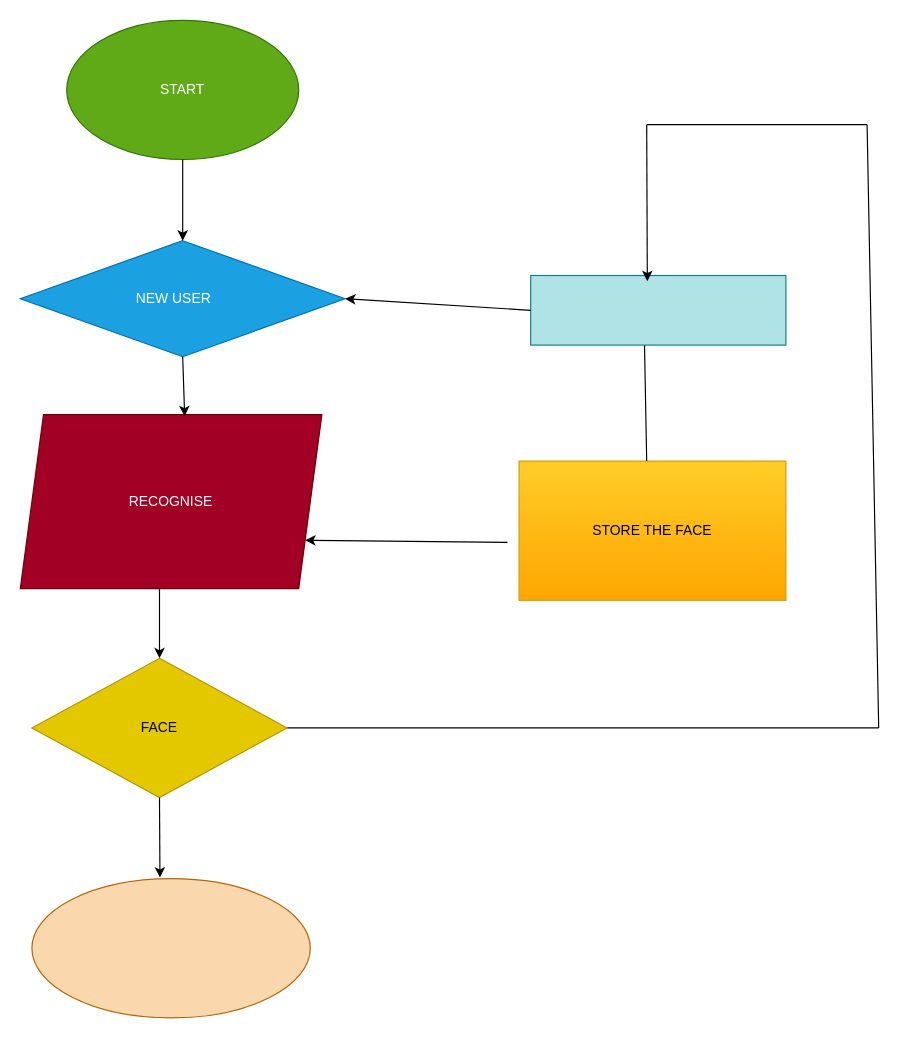
The diagram is 900 pixels wide and 1038 high, and some of its shapes have lost their labels. The centre of each missing label's shape, as x and y in pixels:
END: point (170, 948)
GIVE YOUR PARAGRAPH: point (658, 309)
